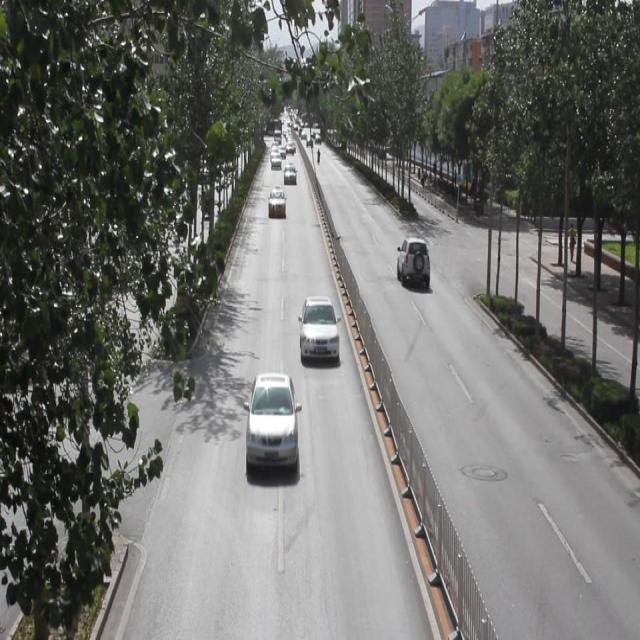car: (244, 372, 297, 469), (297, 297, 338, 361), (395, 234, 428, 286), (268, 187, 285, 216), (284, 165, 296, 182)
